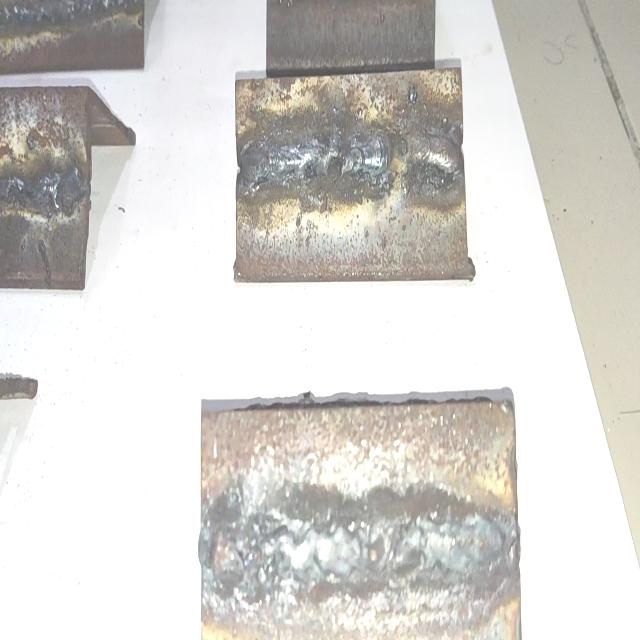Bad Weld: (205, 510, 514, 604), (238, 128, 462, 192), (0, 167, 84, 215)
Defect: (207, 512, 507, 602), (0, 166, 86, 219), (371, 122, 426, 186), (309, 124, 361, 190)
